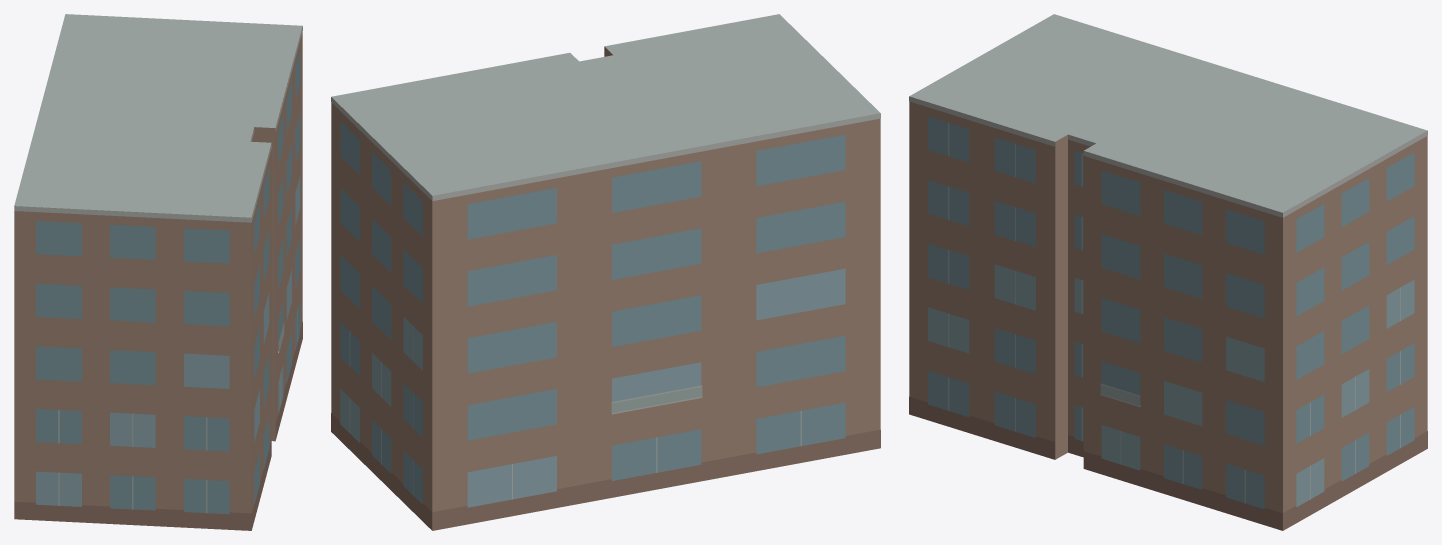
The model's file is survey-upis-32606001.glb.
3 renders of one model, left to right at view 1: azimuth 30°, elevation 25°; view 2: azimuth 150°, elevation 25°; view 3: azimuth 270°, elevation 25°, orthographic. The views are drawn at different scales.
Visible parts, largest first — view 1: survey-upis-32606001.tmp; view 2: survey-upis-32606001.tmp; view 3: survey-upis-32606001.tmp.
Part boxes in pixels (x1,y1,x2,y2): survey-upis-32606001.tmp: (14,14,302,530); survey-upis-32606001.tmp: (331,14,880,530); survey-upis-32606001.tmp: (909,14,1427,530).
Size of the model in its own units: 20.66 by 15.4 by 22.77.
